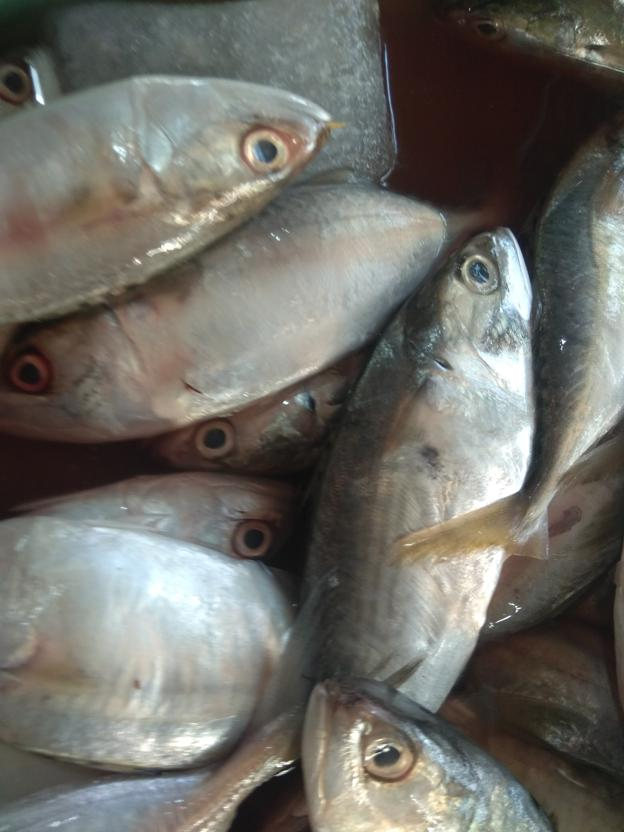Fish head: (135, 75, 331, 231), (302, 678, 478, 832), (1, 299, 172, 449), (402, 226, 537, 382), (164, 379, 332, 481), (159, 469, 302, 568)
Fish tail: (245, 578, 429, 784), (389, 487, 556, 568)
